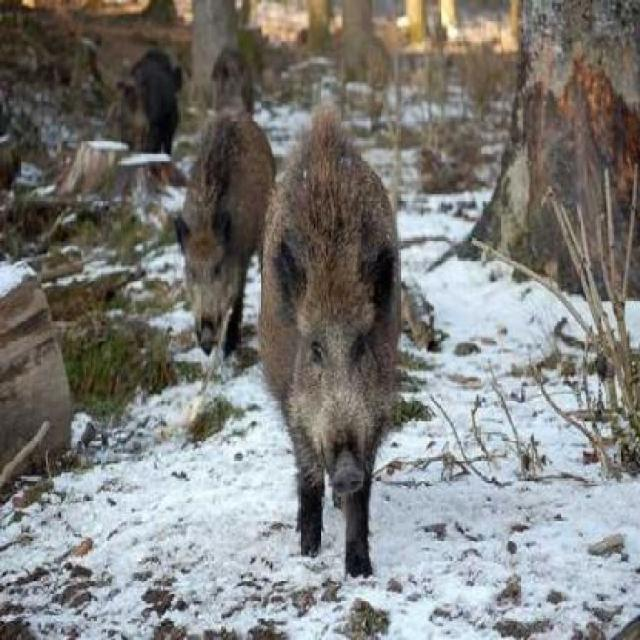pig: (261, 90, 414, 556), (171, 96, 271, 352)
